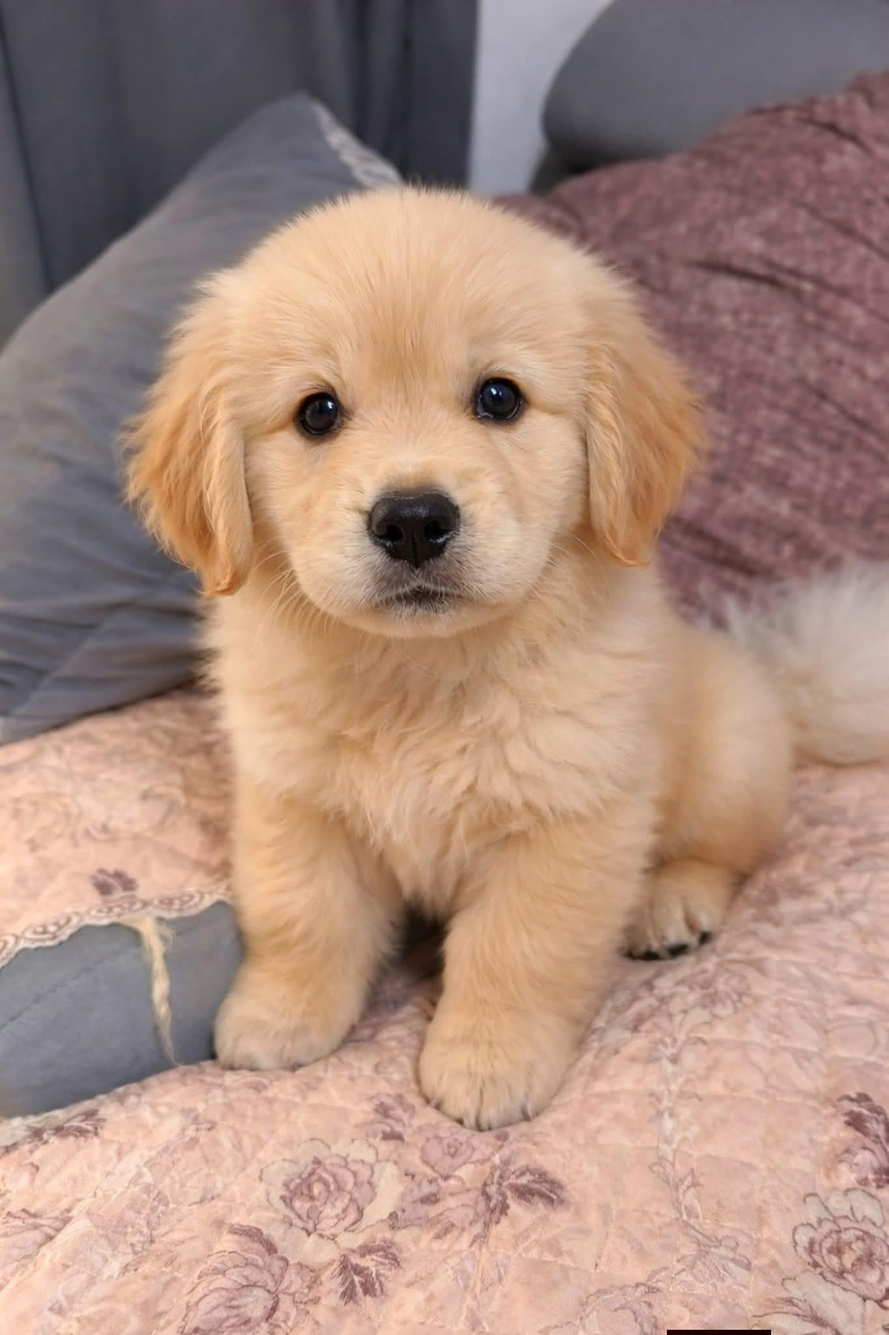puppy-dog: (113, 179, 889, 1139)
